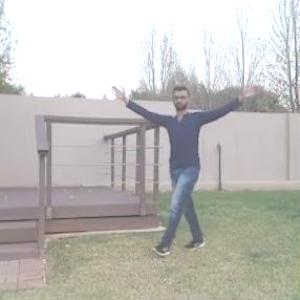takeoff: (113, 89, 255, 257)
